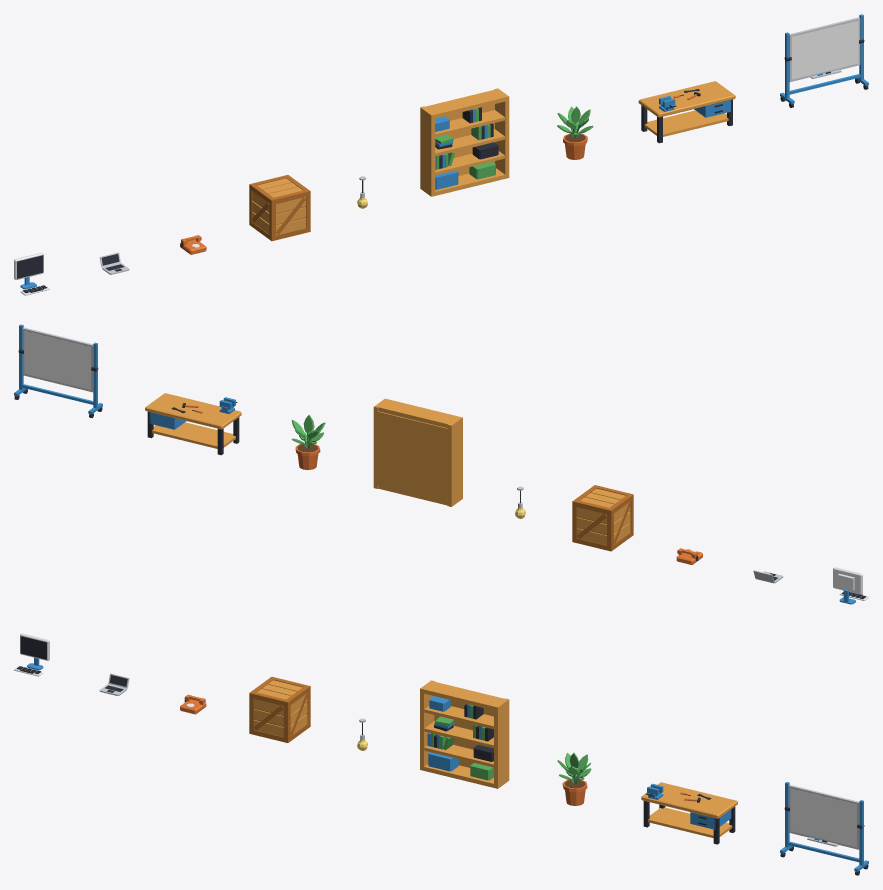
The model's file is FurnitureA.glb.
3 renders of one model, top to bottom at view 1: azimuth 30°, elevation 25°; view 2: azimuth 150°, elevation 25°; view 3: azimuth 330°, elevation 25°, orthographic.
Parts seen in each view (by area): view 1: main (×5), trim (×4), dark (×3), accent (×2); view 2: main (×6), trim (×3), accent; view 3: main (×5), trim (×4), accent (×2), dark (×3).
Boxes of the visible parts, x1,y1,x2,y2 form: main (×5): (252, 21, 858, 235); trim (×4): (249, 17, 860, 241); dark (×3): (17, 89, 732, 293); accent (×2): (435, 14, 868, 189); main (×6): (24, 331, 868, 600); trim (×3): (22, 327, 633, 551); accent: (14, 324, 102, 414); main (×5): (254, 680, 856, 847); trim (×4): (249, 676, 859, 849); accent (×2): (427, 696, 868, 871); dark (×3): (16, 636, 735, 844).
Bounding box in the file's own units: 87 × 8 × 4.
